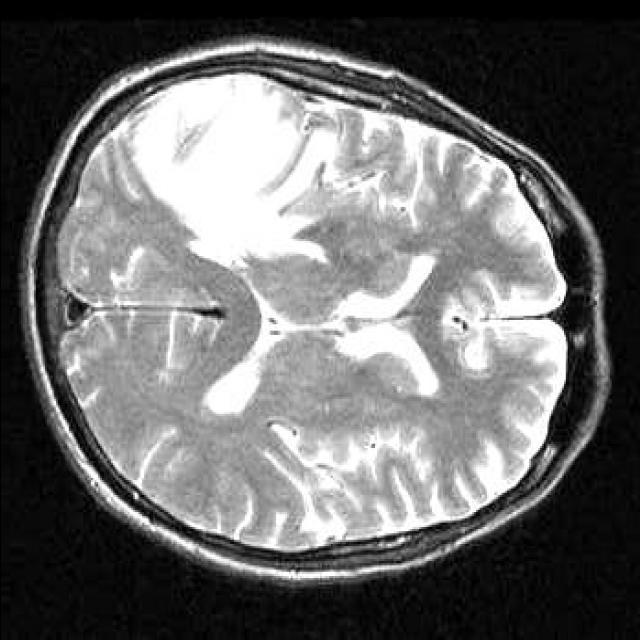tumor: (130, 73, 334, 262)
